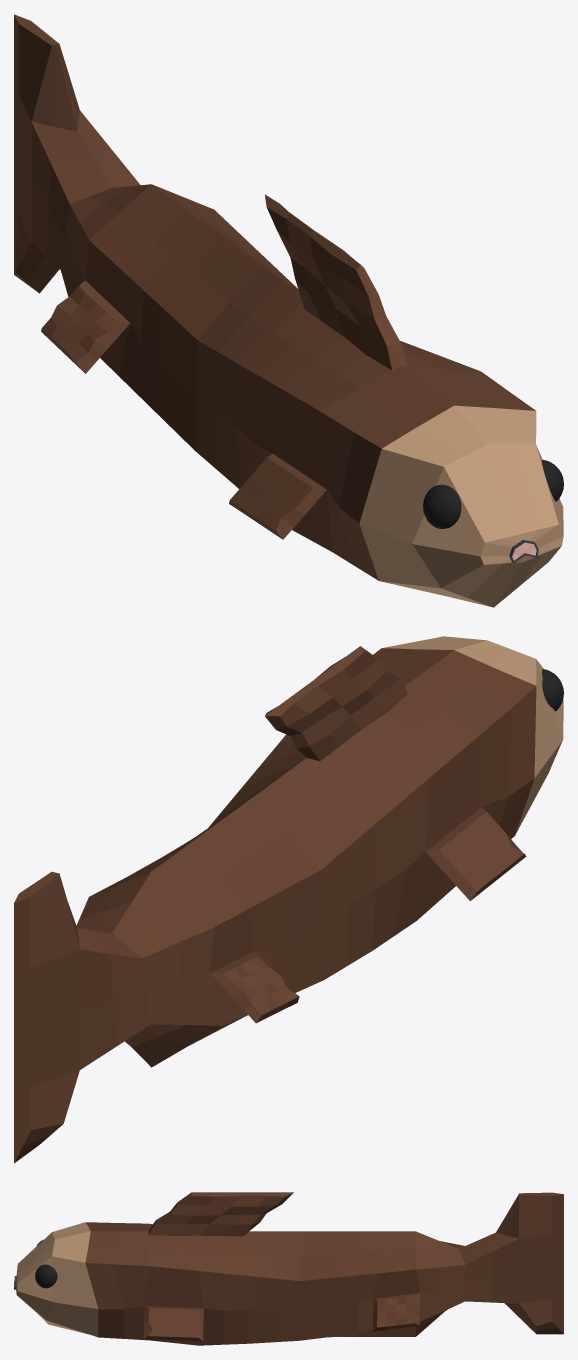
File: Salasand.fbx
3 renders of one model, top to bottom at view 1: azimuth 30°, elevation 25°; view 2: azimuth 150°, elevation 25°; view 3: azimuth 270°, elevation 25°, orthographic. The views are drawn at different scales.
Visible parts, largest first — view 1: Cube.002; view 2: Cube.002; view 3: Cube.002.
Part boxes in pixels (left/top/right/bottom): Cube.002: left=14, top=14, right=563, bottom=607; Cube.002: left=14, top=636, right=563, bottom=1163; Cube.002: left=14, top=1192, right=563, bottom=1345.
Size of the model in its own units: 69.38 by 71.65 by 247.
Materials: 1 (1 with a texture image).
